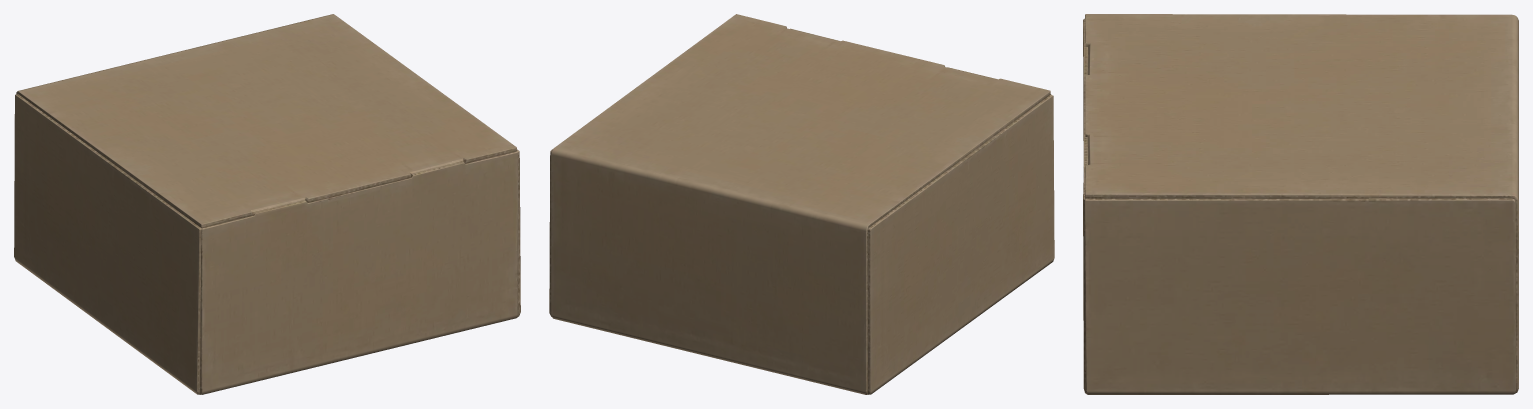
File: box_cardboard_c01.glb
3 views of the same model, side by side, from view 1: azimuth 30°, elevation 25°; view 2: azimuth 150°, elevation 25°; view 3: azimuth 270°, elevation 25° (orthographic). The views are drawn at different scales.
Visible parts, largest first — view 1: sm_box_c01_mesh_00; view 2: sm_box_c01_mesh_00; view 3: sm_box_c01_mesh_00.
Part boxes in pixels (left/top/right/bottom): sm_box_c01_mesh_00: left=14, top=14, right=520, bottom=394; sm_box_c01_mesh_00: left=549, top=14, right=1054, bottom=394; sm_box_c01_mesh_00: left=1083, top=14, right=1518, bottom=394.
Bounding box in the file's own units: 0.5132 × 0.2597 × 0.5105.
1 material, 1 textured.
